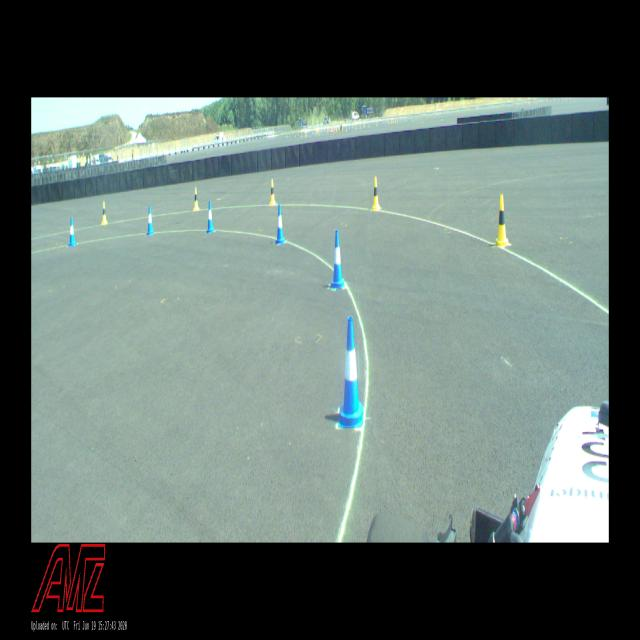blue_cone: (338, 316, 364, 428), (330, 230, 345, 290), (276, 205, 285, 244), (207, 201, 214, 233), (68, 218, 76, 245), (147, 206, 154, 234)
yellow_cone: (496, 194, 508, 248), (372, 177, 380, 210), (269, 179, 276, 205), (101, 201, 108, 225), (193, 187, 199, 211)
